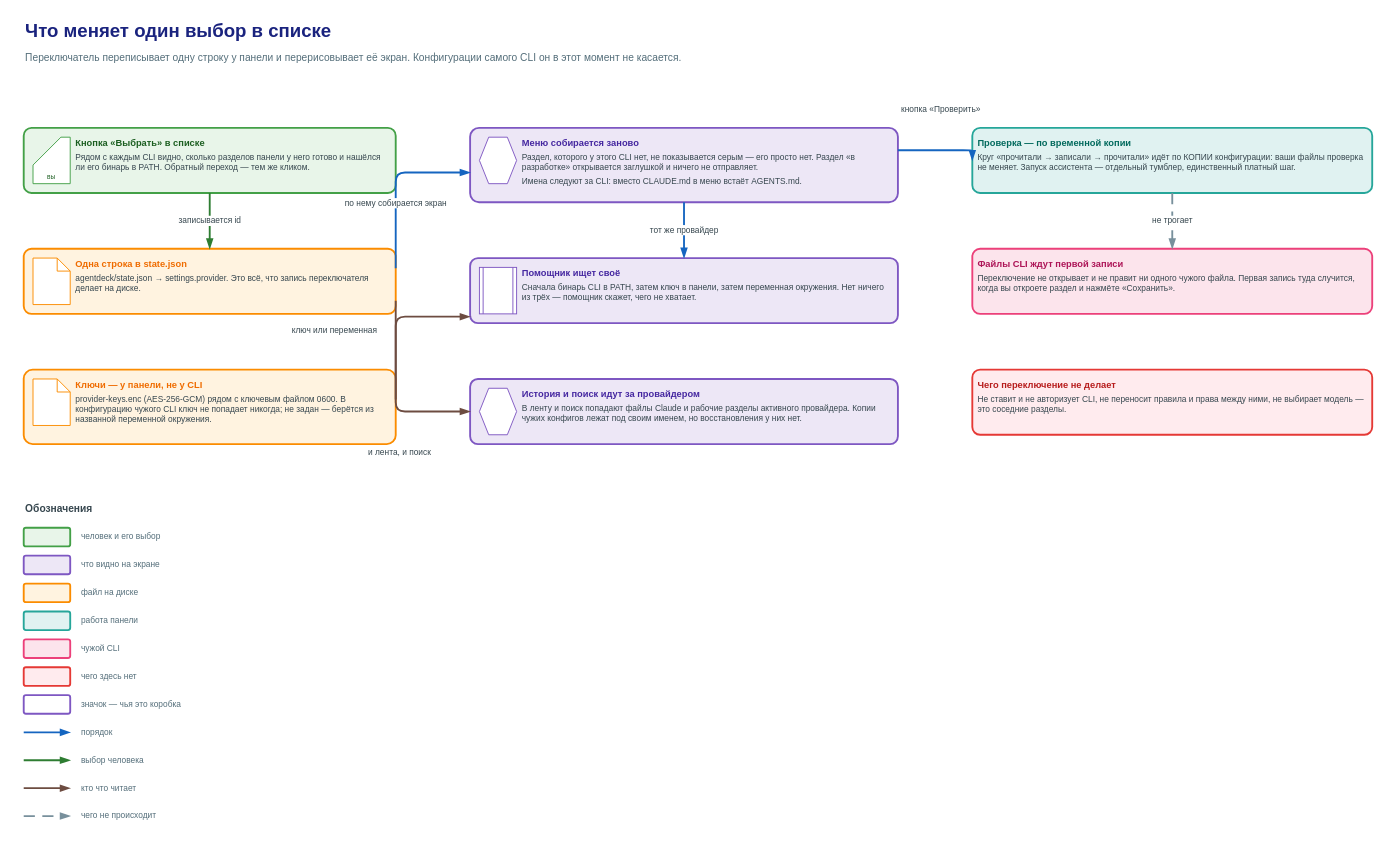
This 1388x841 diagram has some shape labels left out. The shapes that lost their labels are listed below. From the top down, each one's centre as x and y in pixels, then its label:
At [497,160]: "меню".
At [51,281]: "id".
At [497,290]: "чат".
At [51,401]: "enc".
At [497,411]: "лента".
